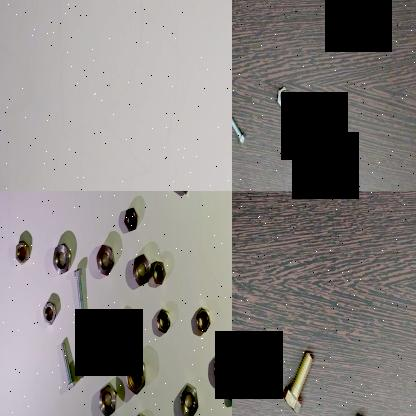Bolts: (277, 349, 319, 415), (310, 153, 346, 191), (57, 334, 78, 388), (72, 262, 85, 320), (232, 104, 248, 151), (273, 84, 292, 113), (224, 374, 232, 404)
NUTS: (124, 356, 148, 398), (209, 345, 232, 385), (177, 376, 199, 416), (97, 377, 117, 416), (129, 254, 151, 288), (51, 240, 71, 274), (11, 231, 31, 265), (96, 244, 116, 276), (40, 294, 58, 326), (120, 205, 140, 233), (194, 304, 210, 338), (154, 306, 172, 336), (111, 312, 129, 340), (150, 257, 166, 288), (73, 348, 87, 376)
